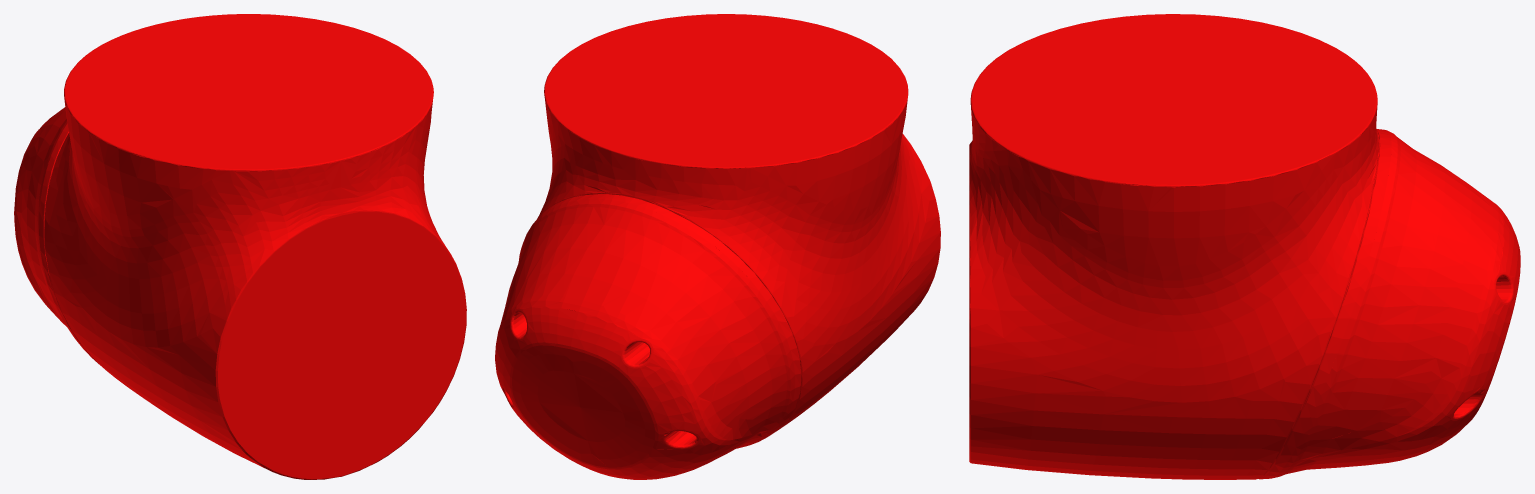
The picture shows the model from 3 angles, left to right: view 1: azimuth 30°, elevation 25°; view 2: azimuth 150°, elevation 25°; view 3: azimuth 270°, elevation 25°; orthographic projection. The views are drawn at different scales.
Visible parts, largest first — view 1: A0509_3_1; view 2: A0509_3_1; view 3: A0509_3_1.
Part boxes in pixels (box(x1,y1,x2,y2)): A0509_3_1: box(14, 14, 466, 479); A0509_3_1: box(495, 14, 940, 479); A0509_3_1: box(969, 14, 1520, 479).
Bounding box in the file's own units: 116 × 157 × 114.
